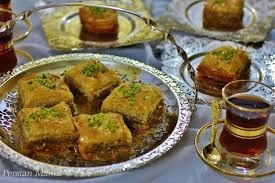baklava: (101, 82, 163, 141), (16, 102, 76, 162), (64, 60, 119, 113), (74, 113, 132, 160), (196, 46, 250, 96), (18, 75, 73, 107), (203, 0, 243, 31), (79, 6, 117, 34)
